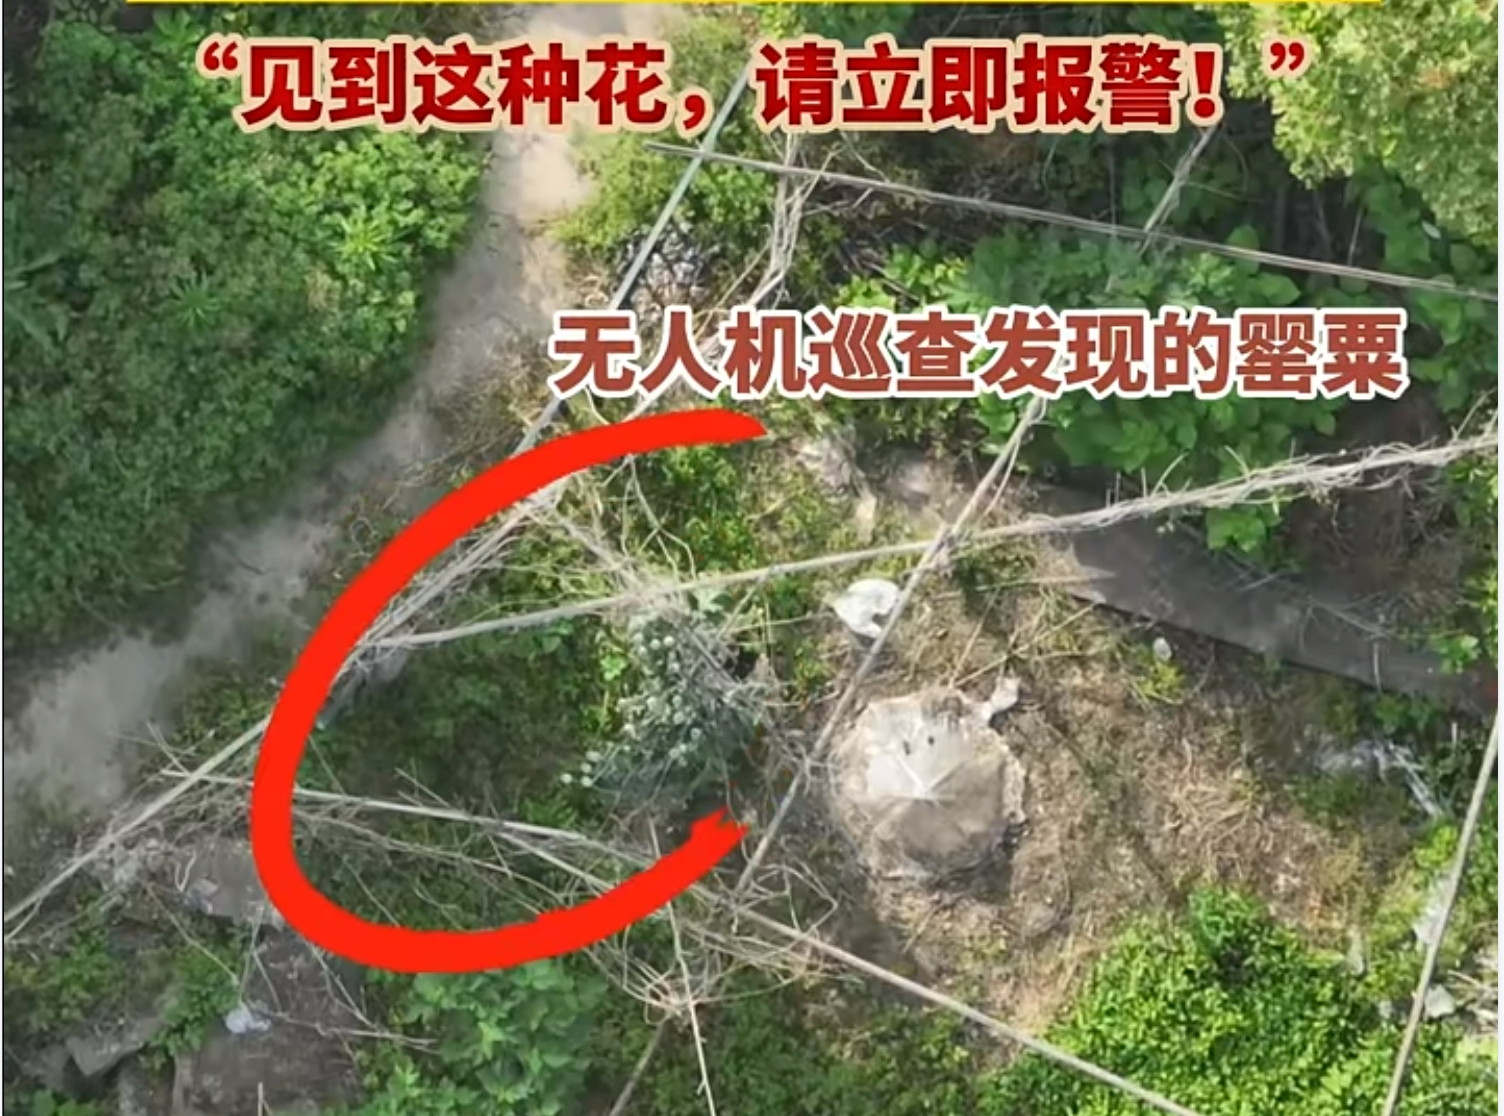Poppy: (542, 564, 757, 802)
